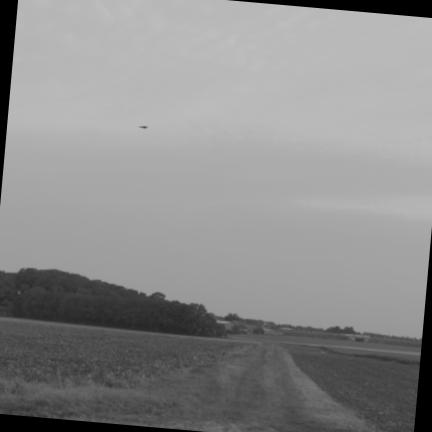Shahed: (139, 126, 148, 128)
